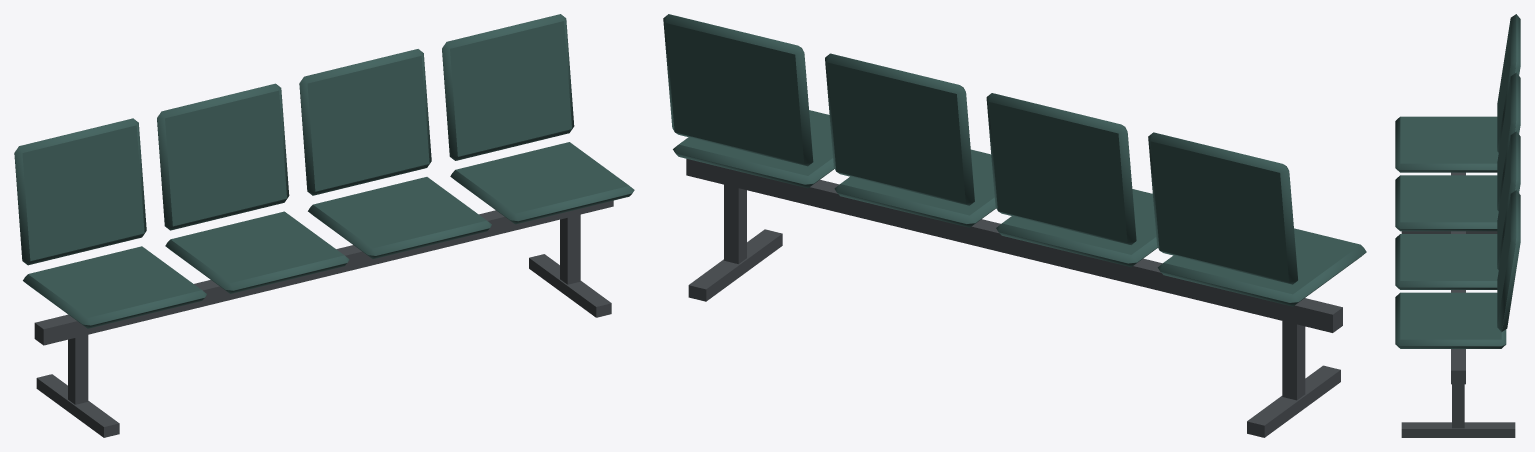
The model's file is waiting_chairs.glb.
3 renders of one model, left to right at view 1: azimuth 30°, elevation 25°; view 2: azimuth 150°, elevation 25°; view 3: azimuth 270°, elevation 25°, orthographic. The views are drawn at different scales.
Visible parts, largest first — view 1: WaitingChairs; view 2: WaitingChairs; view 3: WaitingChairs.
Part boxes in pixels (x1,y1,x2,y2): WaitingChairs: [14, 14, 634, 437]; WaitingChairs: [663, 14, 1366, 437]; WaitingChairs: [1395, 14, 1520, 437].
Size of the model in its own units: 2.2 by 0.908 by 0.4963.
